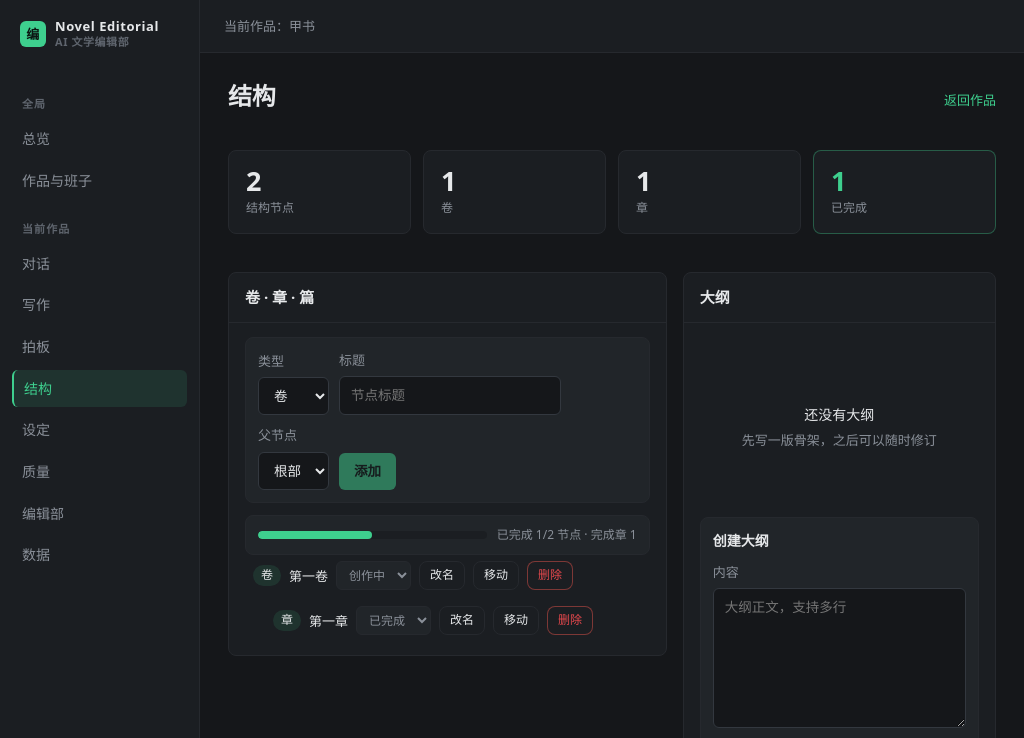
Test case: structure page › renames a node via PATCH
This screenshot has width=1024, height=738.
Check: the text "第一卷" is shown, box [289, 566, 328, 586]
Step 1. Click the button "改名" next to "第一卷" → (442, 576), box [419, 561, 465, 590]
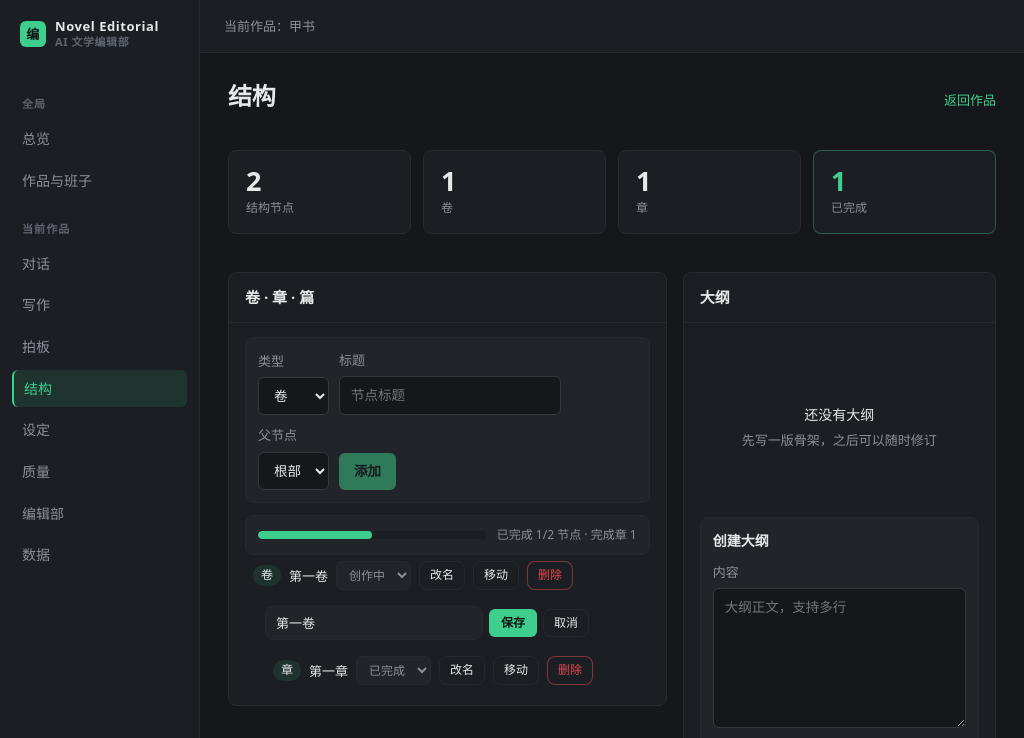
Step 2. Replace the text in the field named "第一卷 新标题" with "开篇卷" → (374, 623), box [265, 606, 483, 640]
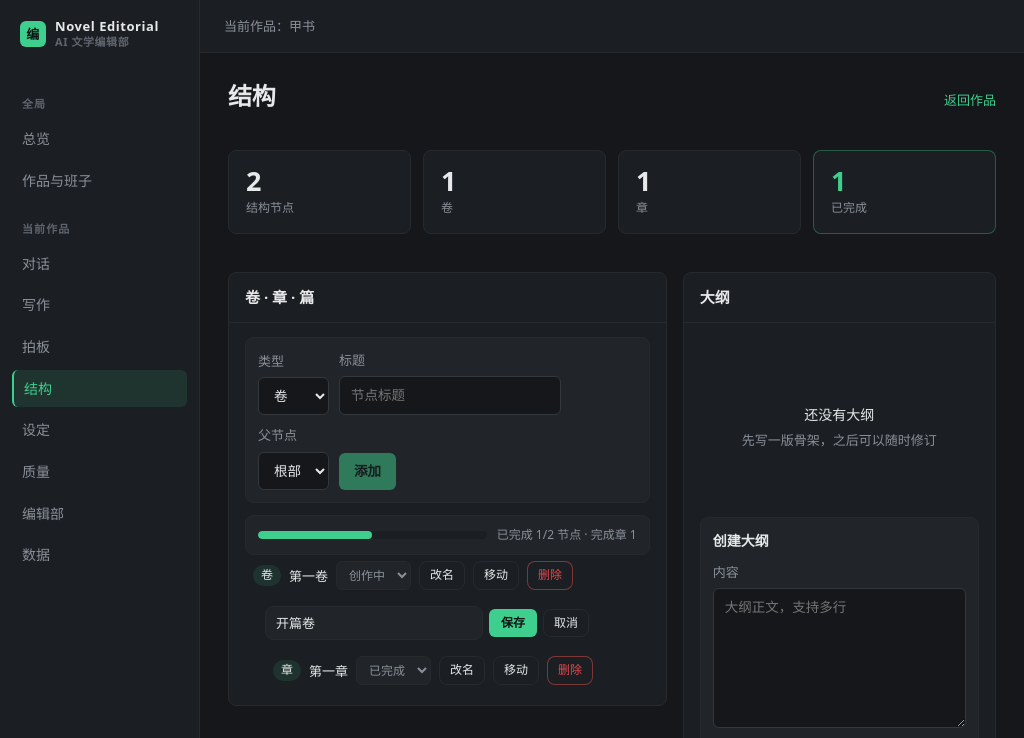
Step 3. Click the button "保存" → (513, 623), box [489, 609, 537, 638]
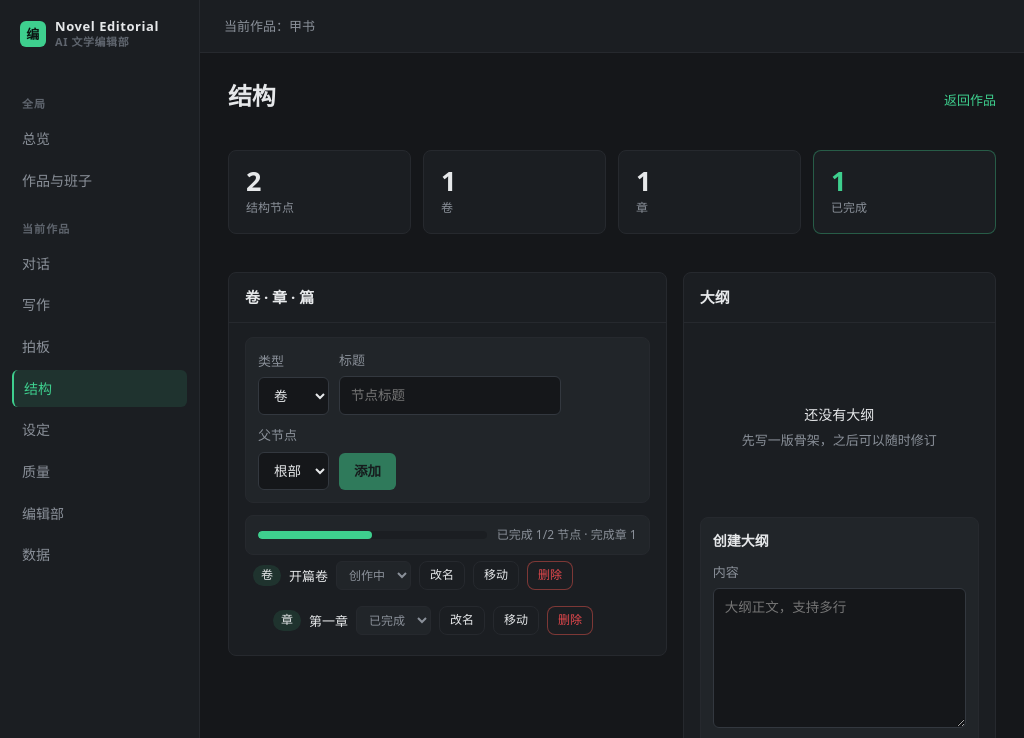
Check: the text "开篇卷" is shown, box [289, 566, 328, 586]
